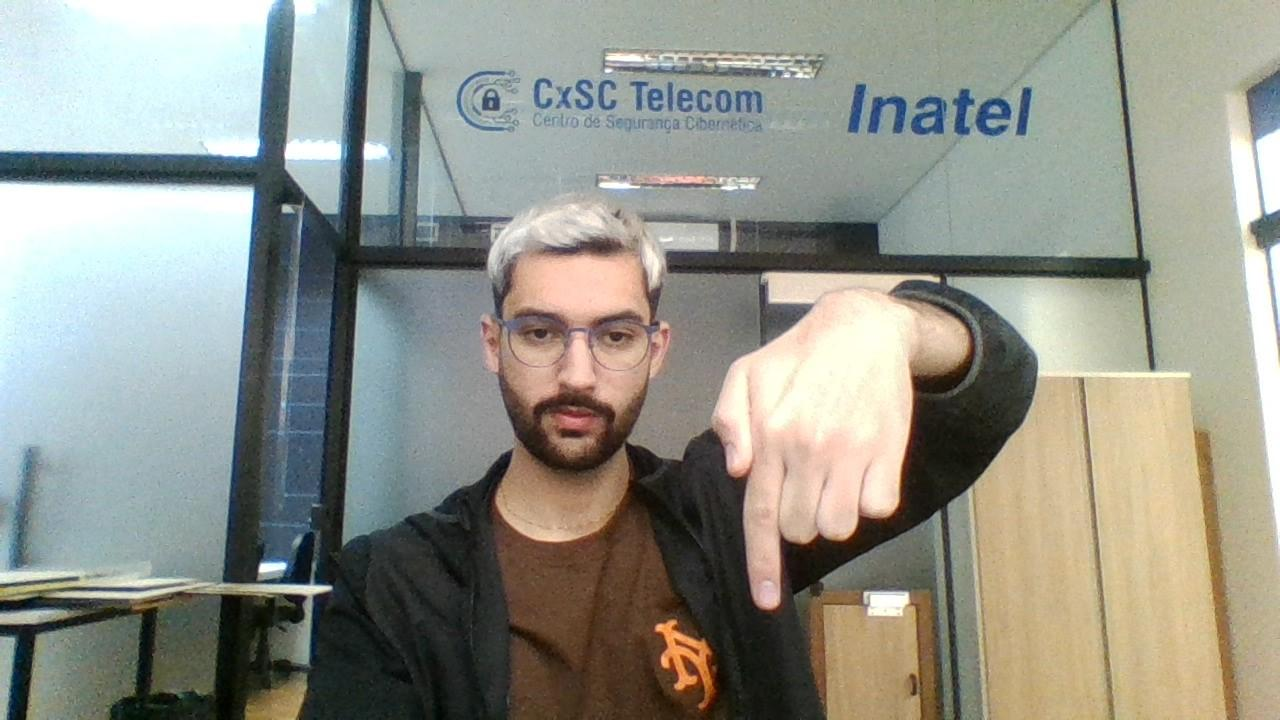Q: (704, 286, 926, 614)
